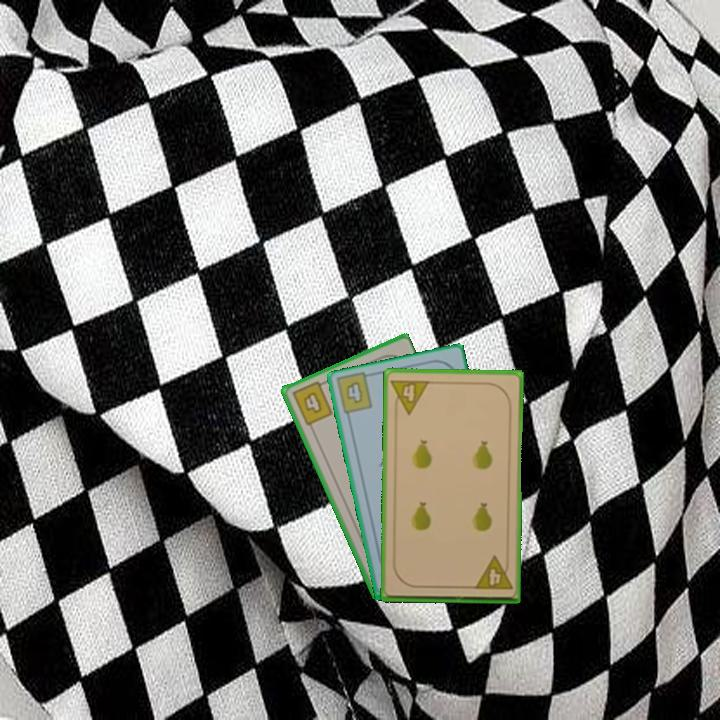4b: (288, 377, 336, 428), (342, 378, 365, 406)
4p: (388, 376, 432, 417), (470, 553, 515, 593)
